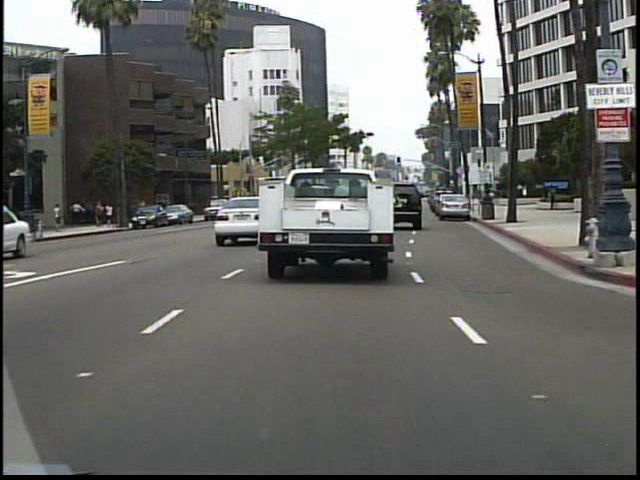person: (546, 183, 558, 214), (54, 202, 66, 229)
